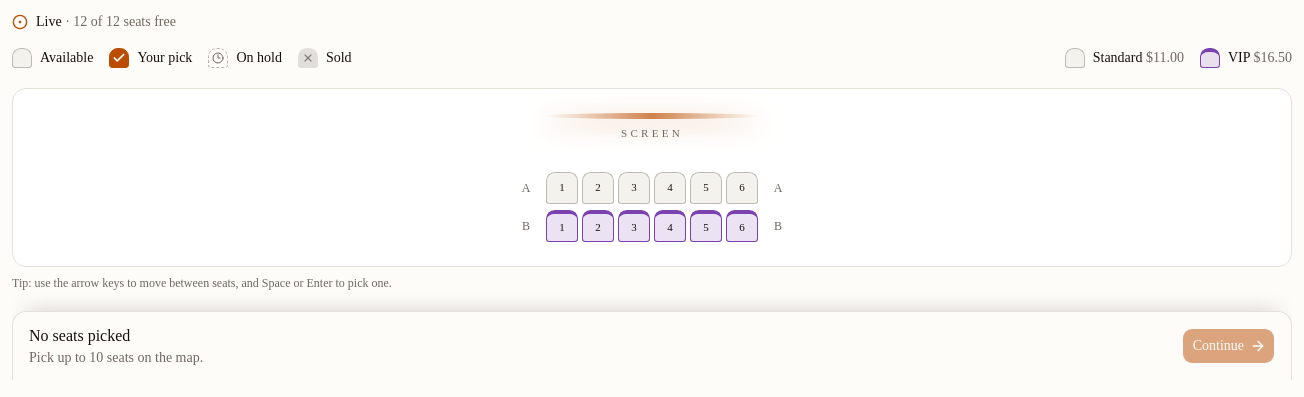
Test: SeatPicker › picks and drops seats, and sums their prices
Click the 1st button "1".
click(562, 188)  # box top-left (546, 172), bottom-right (578, 204)
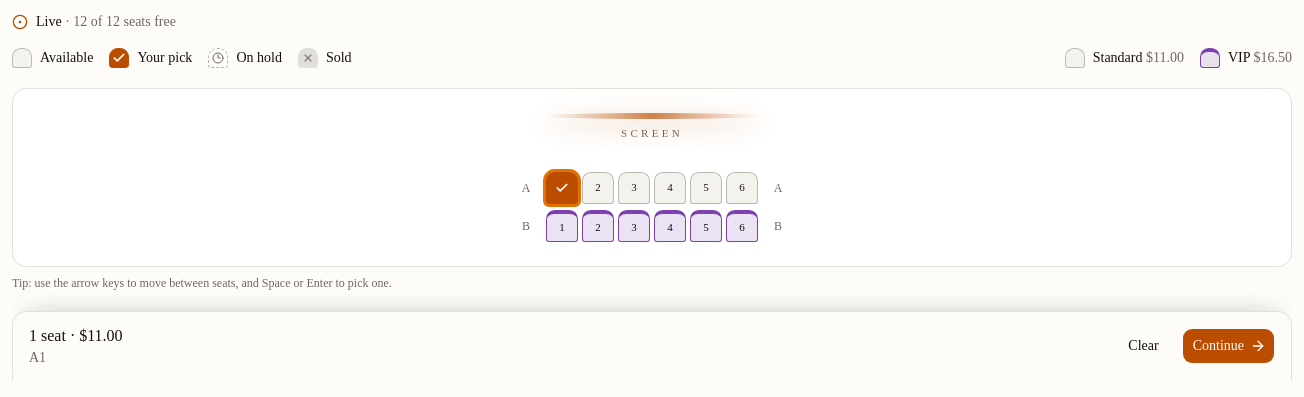
Click the 2nd button "2".
click(598, 226)  # box top-left (582, 210), bottom-right (614, 242)
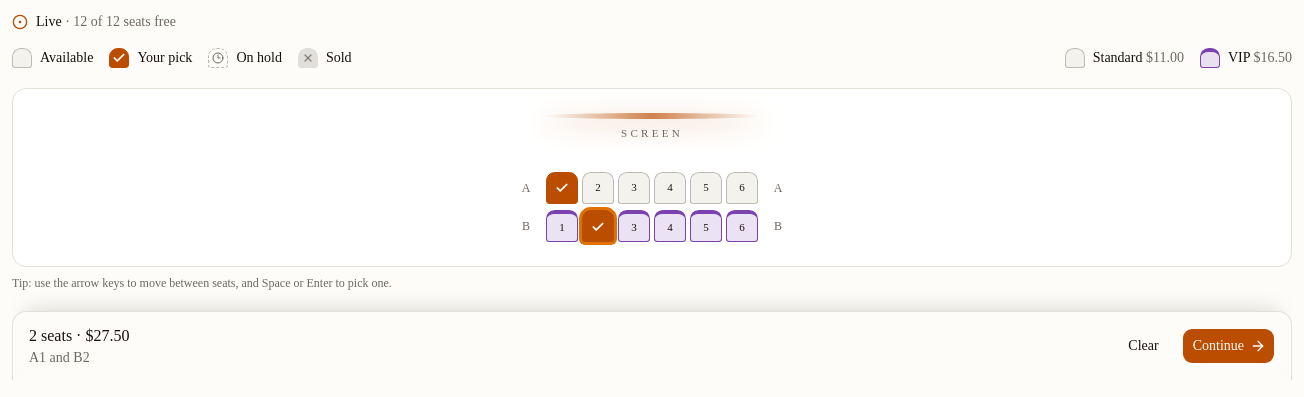
Check: the text "2 seats · $27.50" is shown, box top-left (29, 326), bottom-right (129, 344)
Check: the text "A1 and B2" is shown, box top-left (29, 350), bottom-right (90, 364)
Click the button named "Row A, seat 1, $11.00, selected".
click(562, 188)  # box top-left (546, 172), bottom-right (578, 204)
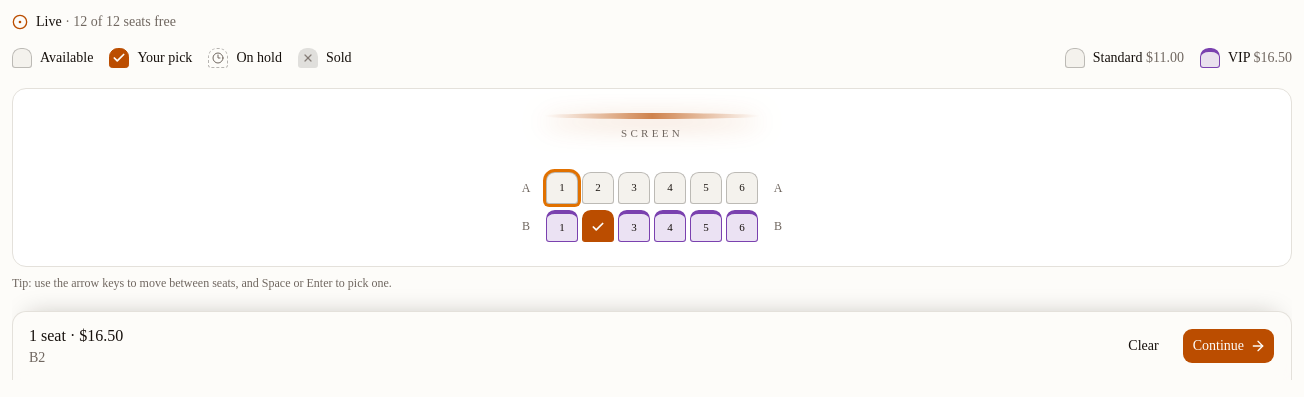
Check: the text "1 seat · $16.50" is shown, box top-left (29, 326), bottom-right (123, 344)
Click the button "Clear".
click(1143, 346)  # box top-left (1117, 328), bottom-right (1170, 364)
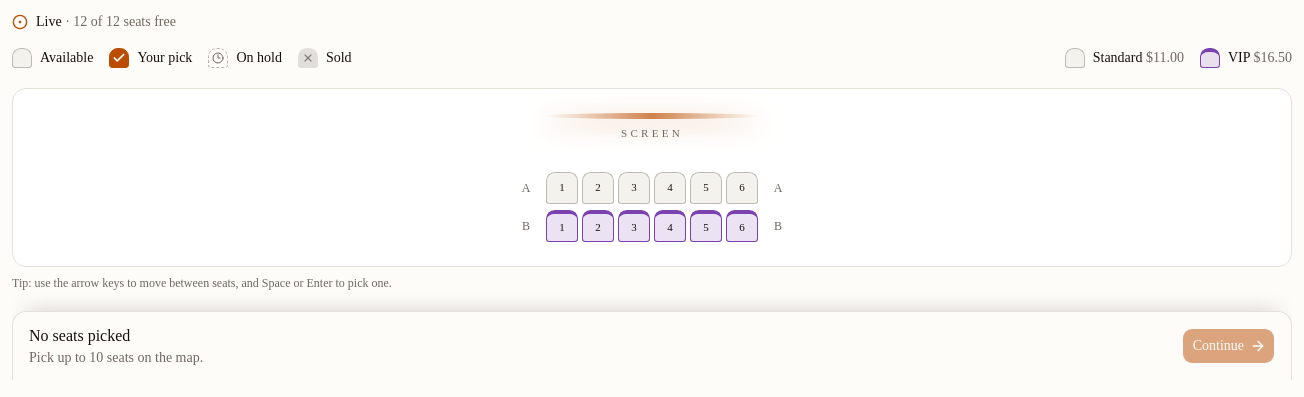
Check: the text "No seats picked" is shown, box top-left (29, 326), bottom-right (130, 344)
